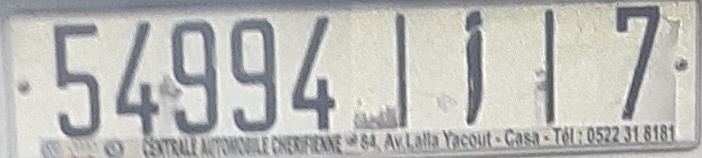4: (109, 16, 163, 136), (291, 13, 342, 134)
5: (49, 19, 107, 139)
7: (611, 3, 664, 127)
9: (169, 14, 223, 138), (228, 16, 281, 136)
a: (455, 8, 490, 133)
